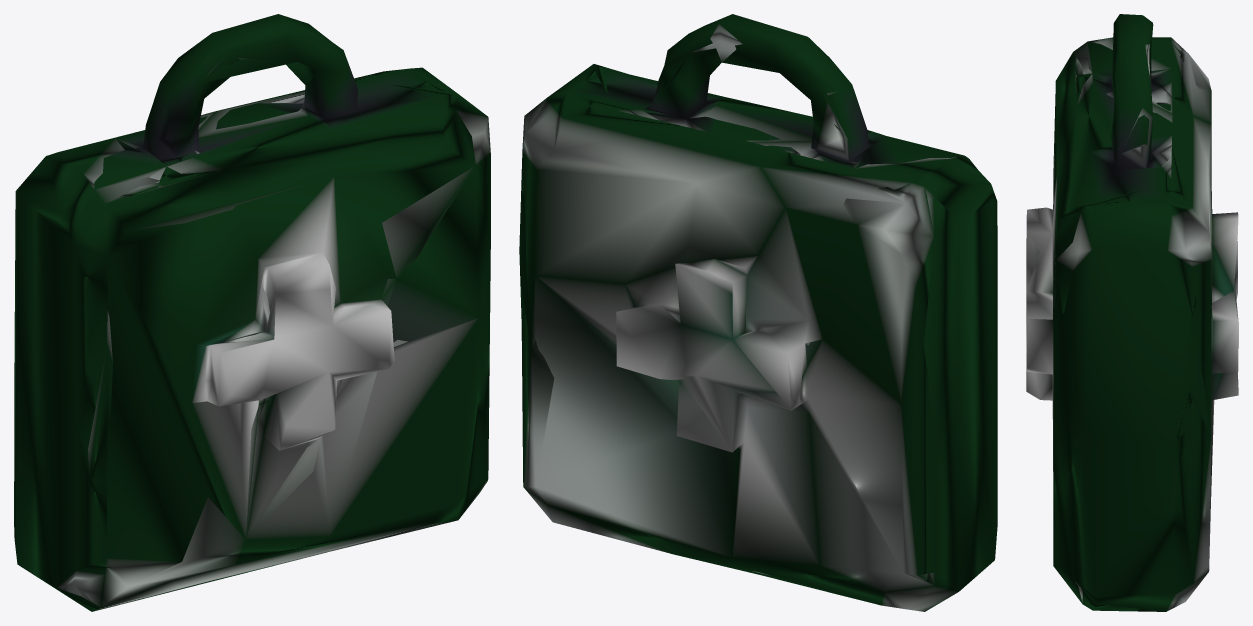
The model's file is gen3d-first-aid-kit-lod1.glb.
The picture shows the model from 3 angles, left to right: view 1: azimuth 30°, elevation 25°; view 2: azimuth 150°, elevation 25°; view 3: azimuth 270°, elevation 25°; orthographic projection. The views are drawn at different scales.
Visible parts, largest first — view 1: part_0; view 2: part_0; view 3: part_0.
Part boxes in pixels (x1=…): part_0: x1=14, y1=14, x2=490, y2=611; part_0: x1=519, y1=14, x2=997, y2=611; part_0: x1=1026, y1=14, x2=1238, y2=611.
Size of the model in its own units: 0.8595 by 0.9984 by 0.3853.
